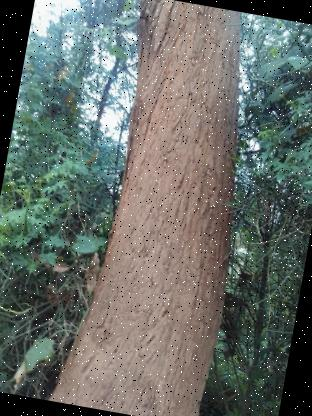tree: (42, 0, 281, 416)
